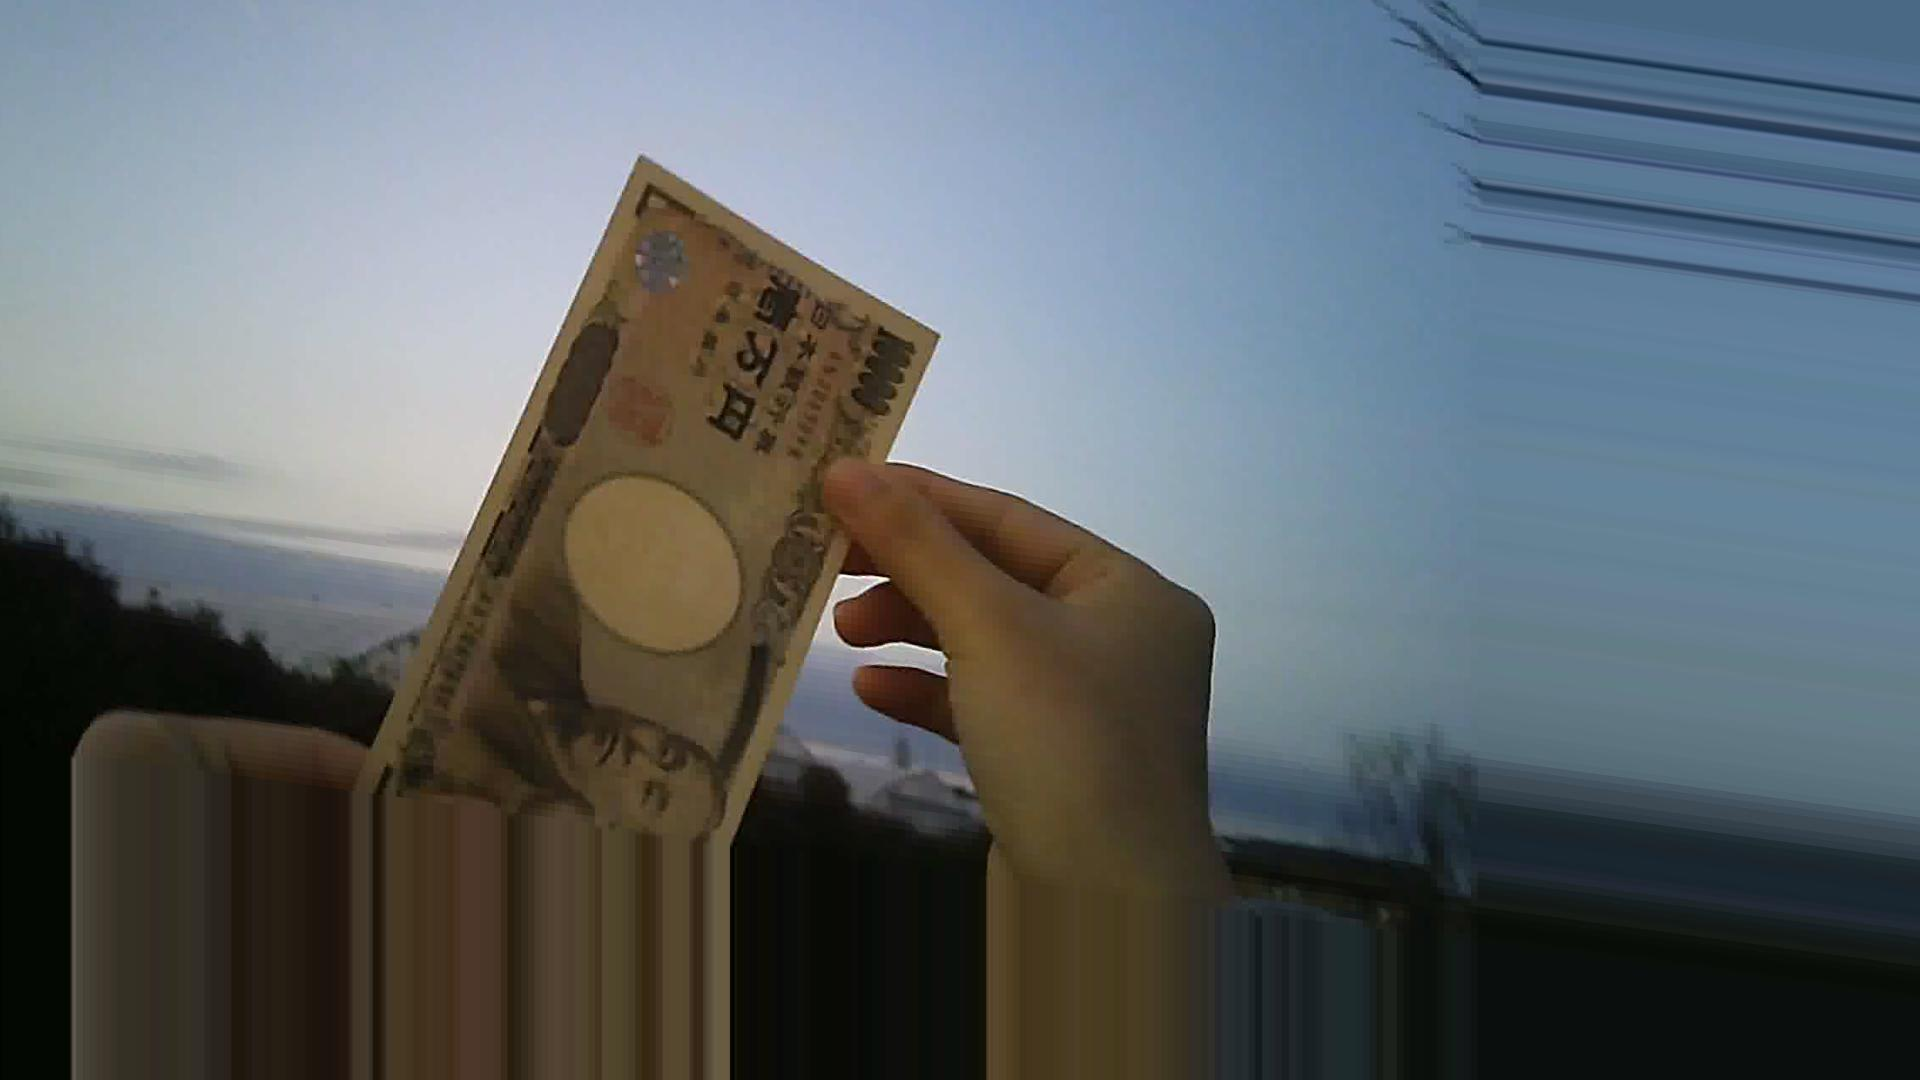10,000 Yen: (352, 113, 989, 873)
